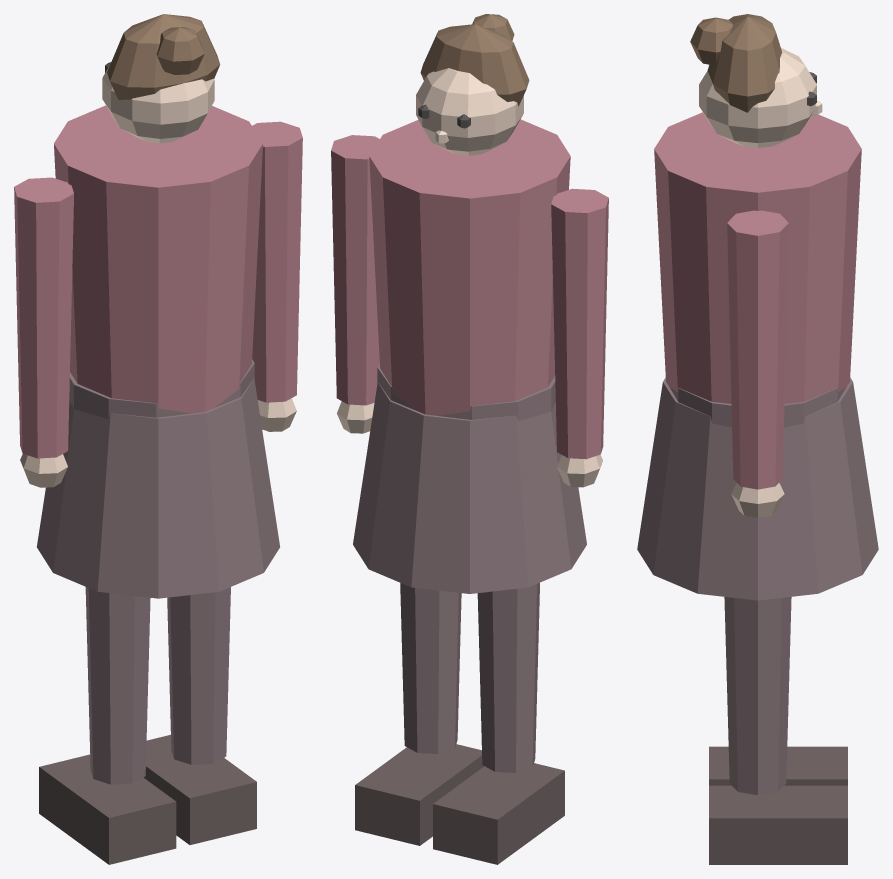
The model's file is npc_colette.glb.
The picture shows the model from 3 angles, left to right: view 1: azimuth 30°, elevation 25°; view 2: azimuth 150°, elevation 25°; view 3: azimuth 270°, elevation 25°; orthographic projection. The views are drawn at different scales.
Parts seen in each view (by area): view 1: Torso, LegL, LegR, ArmL, ArmR, Head; view 2: Torso, LegL, LegR, ArmL, Head, ArmR; view 3: Torso, LegR, ArmR, Head, LegL.
Part boxes in pixels (<box>): Torso: <box>37,105,279,598</box>; LegL: <box>39,587,176,864</box>; LegR: <box>143,587,256,844</box>; ArmL: <box>14,177,73,487</box>; ArmR: <box>252,121,302,431</box>; Head: <box>102,14,220,143</box>; Torso: <box>353,119,586,593</box>; LegL: <box>433,583,564,864</box>; LegR: <box>355,583,484,845</box>; ArmL: <box>551,188,608,487</box>; Head: <box>416,14,529,155</box>; ArmR: <box>331,135,379,433</box>; Torso: <box>637,112,878,600</box>; LegR: <box>709,597,847,864</box>; ArmR: <box>727,210,788,517</box>; Head: <box>690,14,822,147</box>; LegL: <box>709,746,847,785</box>.
Bounding box in the file's own units: 0.63 × 1.74 × 0.47.
